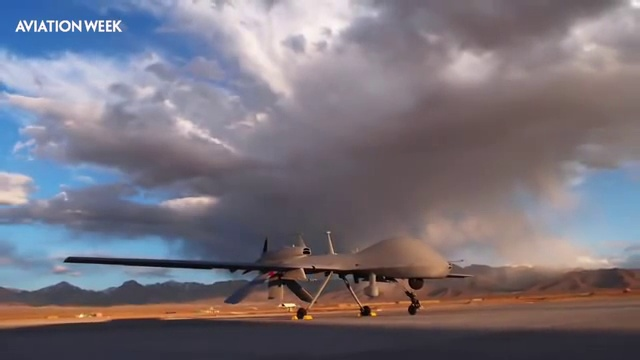military drone: (63, 230, 473, 319)
